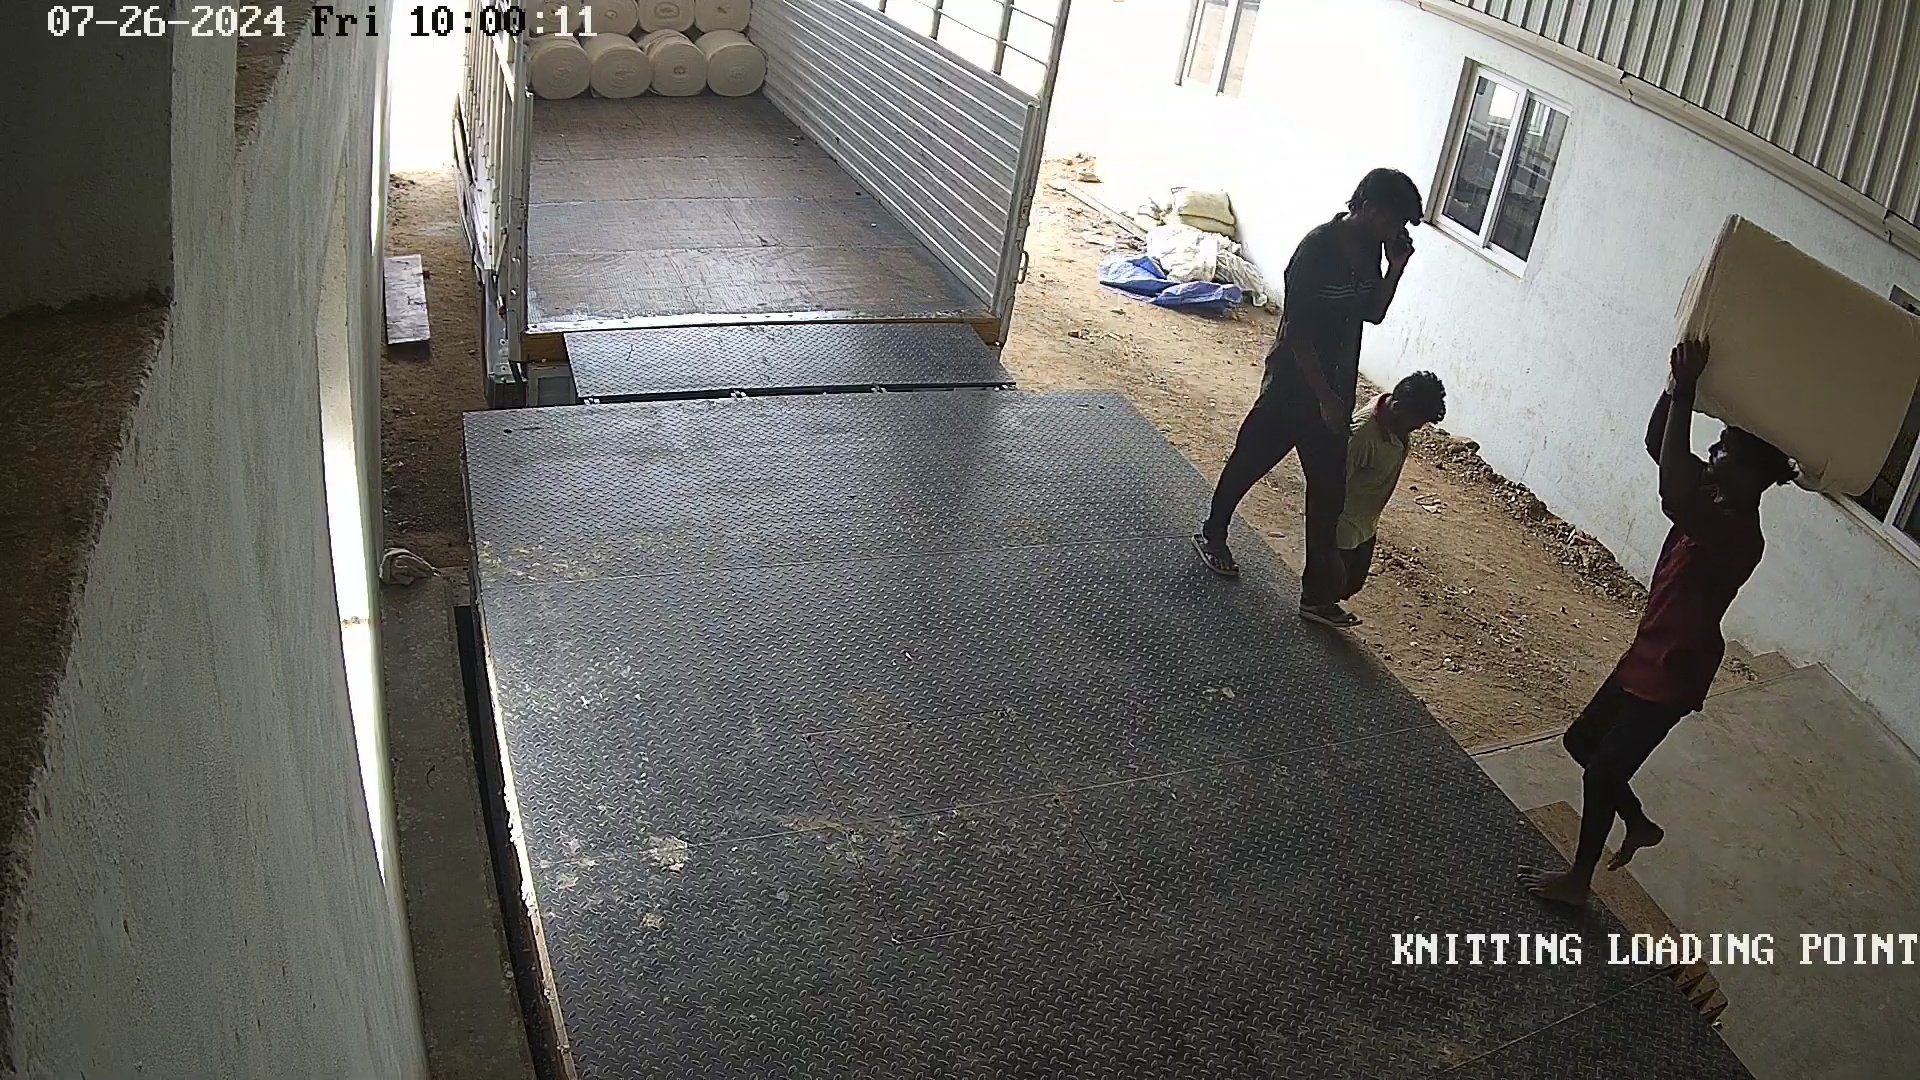bag: (1662, 200, 1920, 498)
